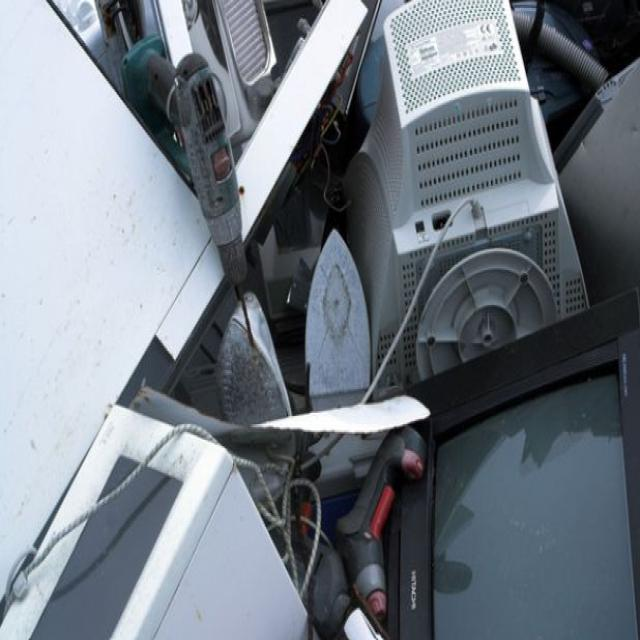electronic: (336, 17, 612, 400), (360, 324, 640, 640), (0, 373, 324, 640), (127, 18, 272, 296), (331, 396, 426, 640), (302, 214, 386, 419), (214, 293, 304, 478)
